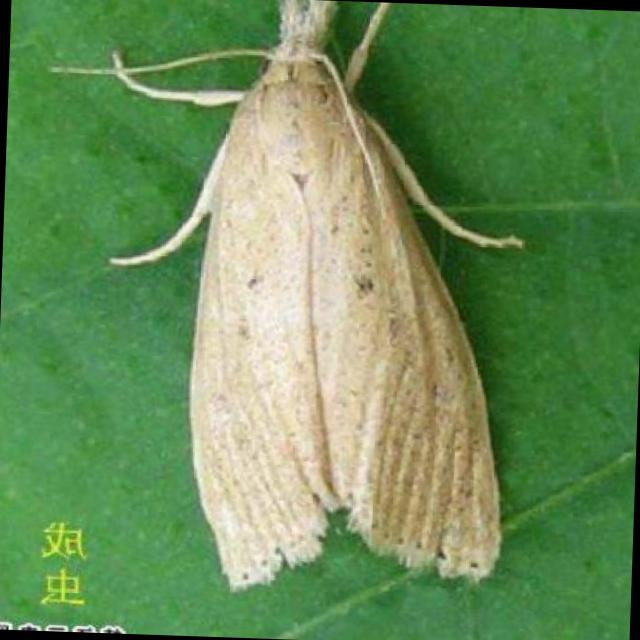stem-borer: (157, 0, 529, 604)
